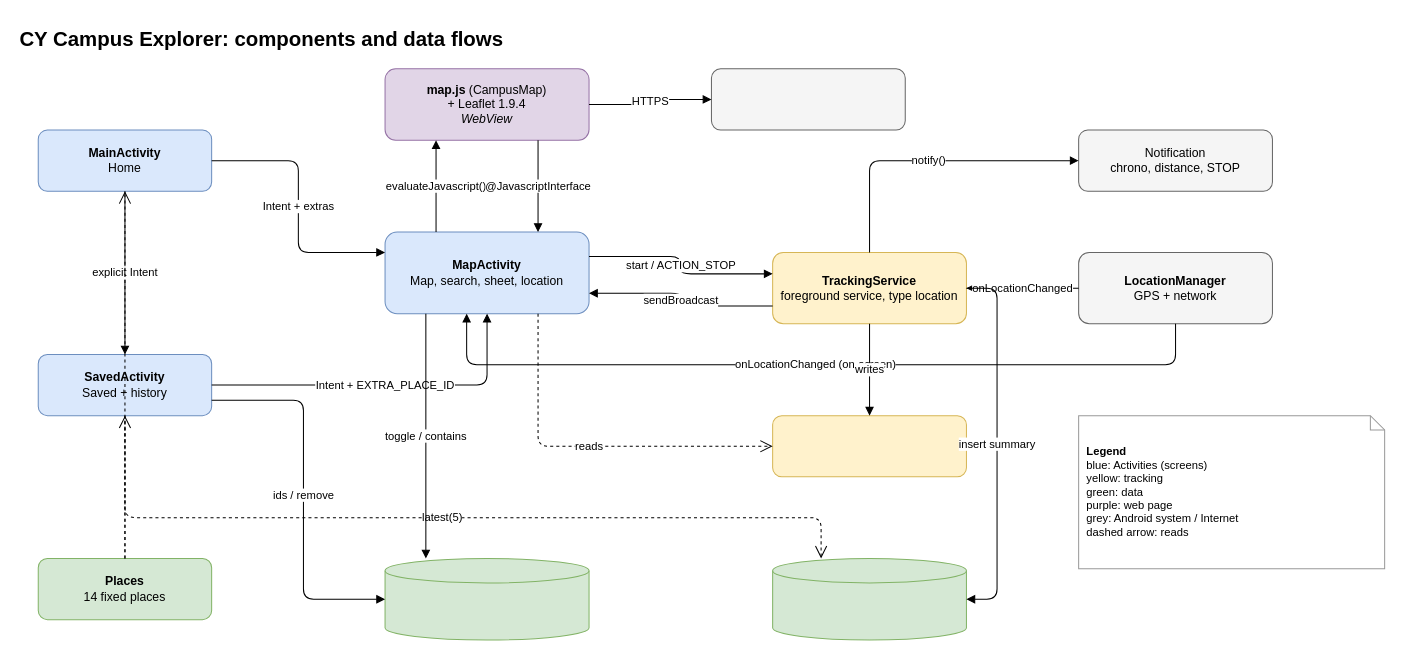
This 1403x658 diagram has some shape labels left out. The centre of each missing label's shape, as x and y in pixels:
SharedPreferences campus_explorer (SavedPlaces): pixel 486 598
SQLite sessions.db SESSIONS (SessionDb): pixel 869 598
tile.openstreetmap.org map tiles (Internet): pixel 807 99
TrackingState current session (RAM): pixel 869 446
